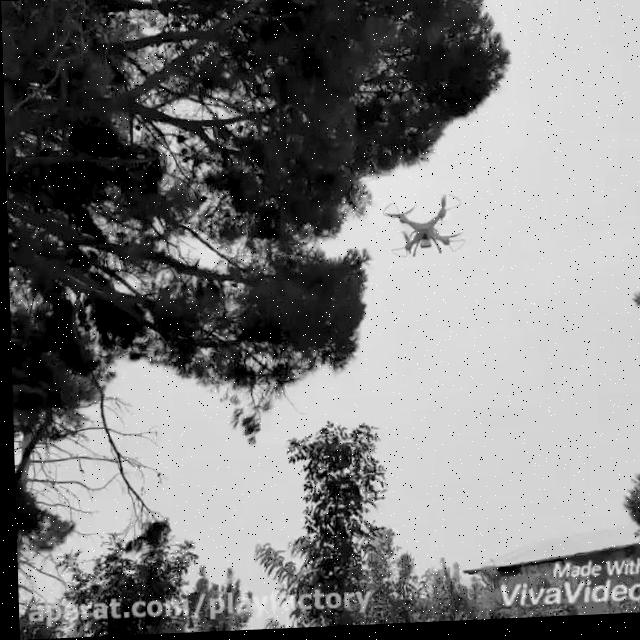drone: (379, 195, 464, 264)
